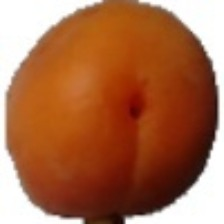apricot: (20, 0, 171, 201)
